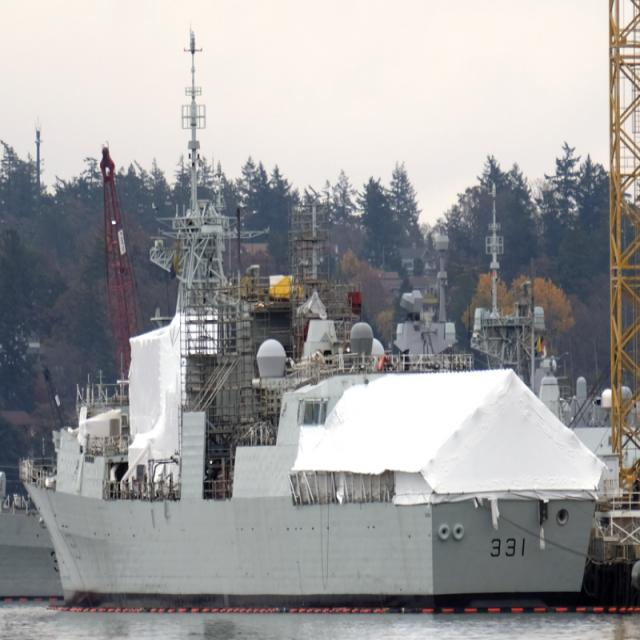Fragata: (18, 15, 611, 609)
